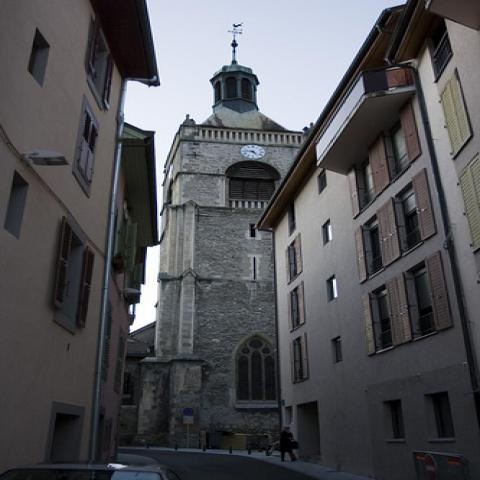car: (0, 460, 183, 479)
